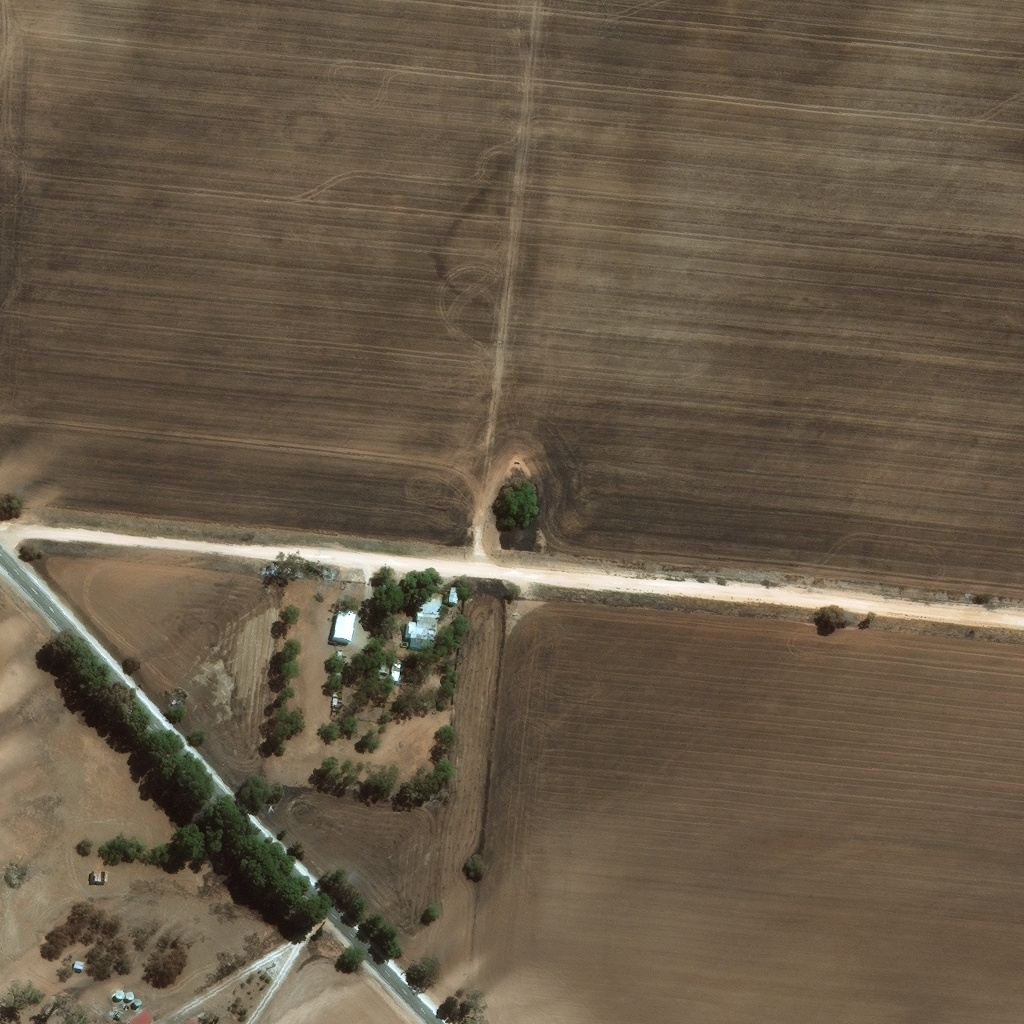0 no-damage: (404, 618, 437, 646), (331, 607, 358, 640), (416, 597, 440, 619), (448, 586, 458, 601), (74, 952, 86, 964), (390, 667, 400, 678), (114, 984, 125, 994), (126, 985, 137, 995), (132, 991, 143, 1001), (378, 660, 388, 670), (395, 659, 402, 664)
2 major-damage: (90, 862, 111, 876)
3 destroyed: (108, 1000, 125, 1013)
4 un-classified: (126, 1004, 154, 1023), (182, 1013, 203, 1023)
